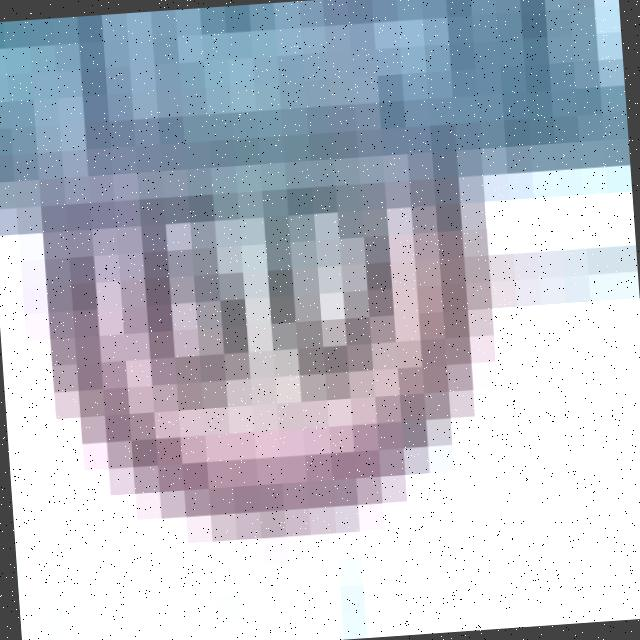Ograniczenie predkosci do 60: (11, 97, 478, 500)
